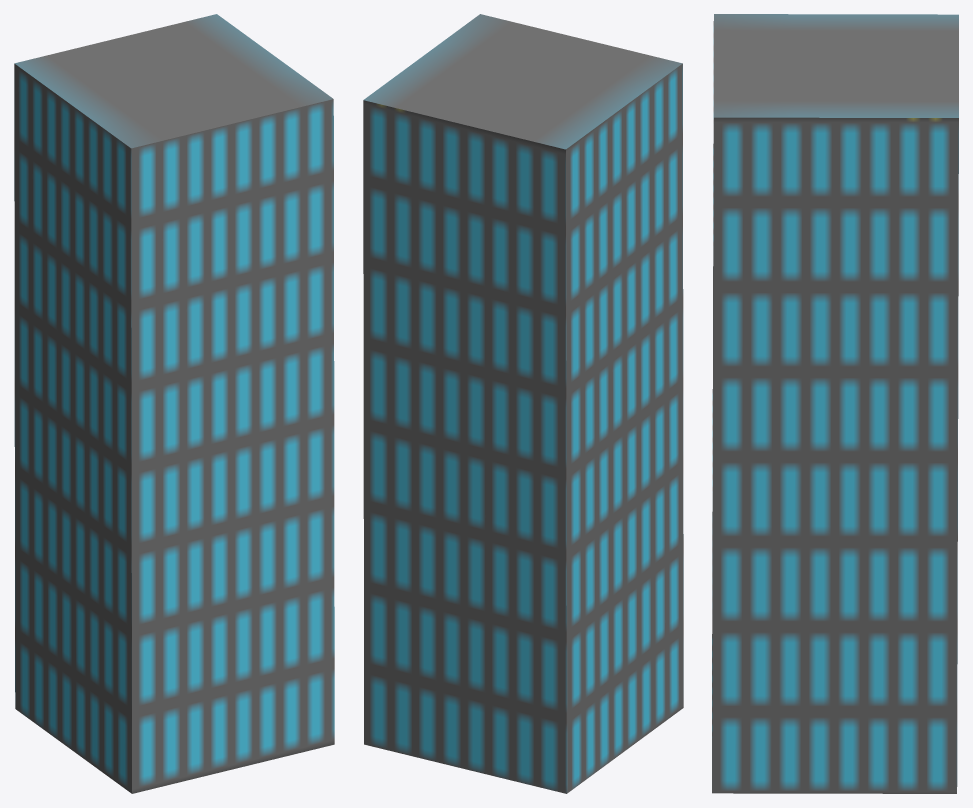
The model's file is Building1.fbx.
The picture shows the model from 3 angles, left to right: view 1: azimuth 30°, elevation 25°; view 2: azimuth 150°, elevation 25°; view 3: azimuth 270°, elevation 25°; orthographic projection. The views are drawn at different scales.
Parts seen in each view (by area): view 1: Cube.003; view 2: Cube.003; view 3: Cube.003.
Boxes of the visible parts, left/top/right/bottom form: Cube.003: left=14, top=14, right=334, bottom=793; Cube.003: left=363, top=14, right=683, bottom=793; Cube.003: left=712, top=14, right=958, bottom=793.
Size of the model in its own units: 1412 by 4300 by 1423.
